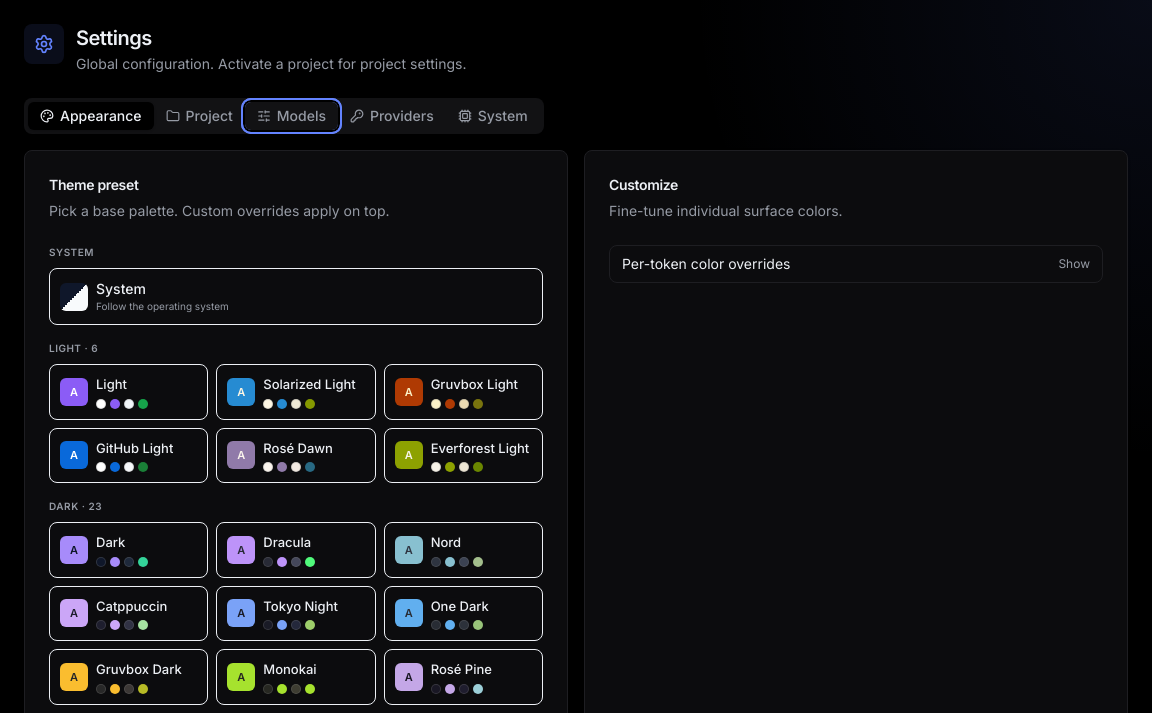
it: Settings without an active project › renders the global Models tab with no project selected
Click the tab "Models" at x=291, y=116, box [245,102,338,130]
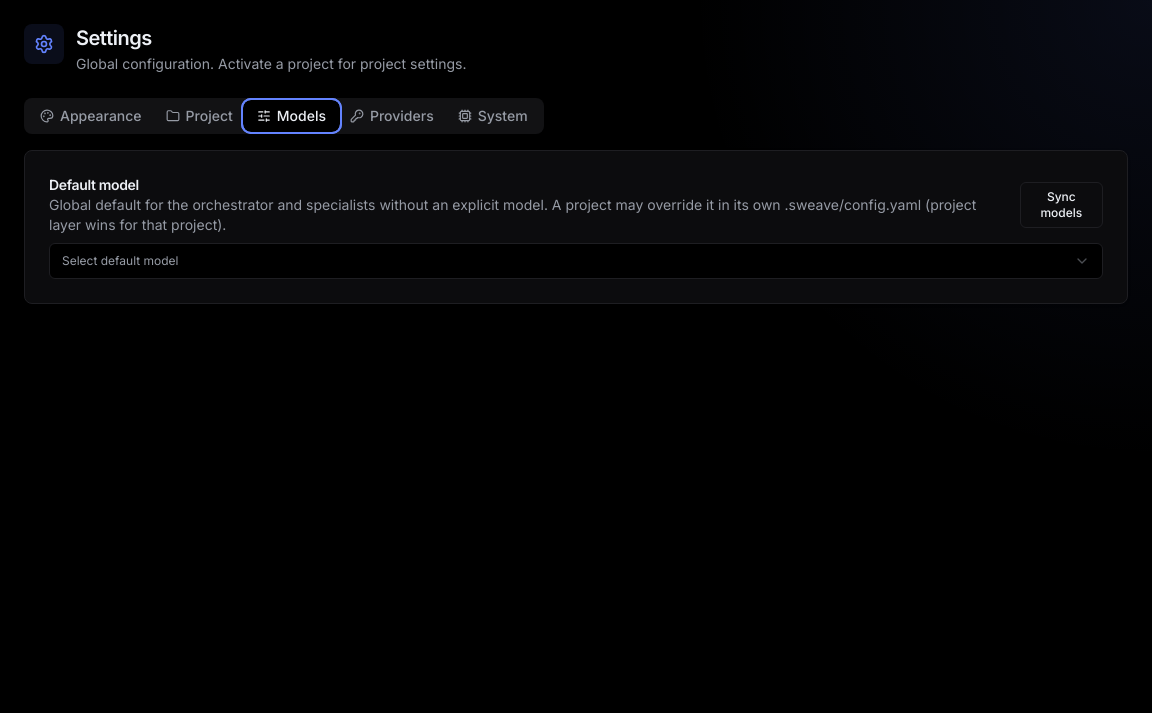
Now the button with test id "models-sync" is shown, box [1020,182,1103,228]
